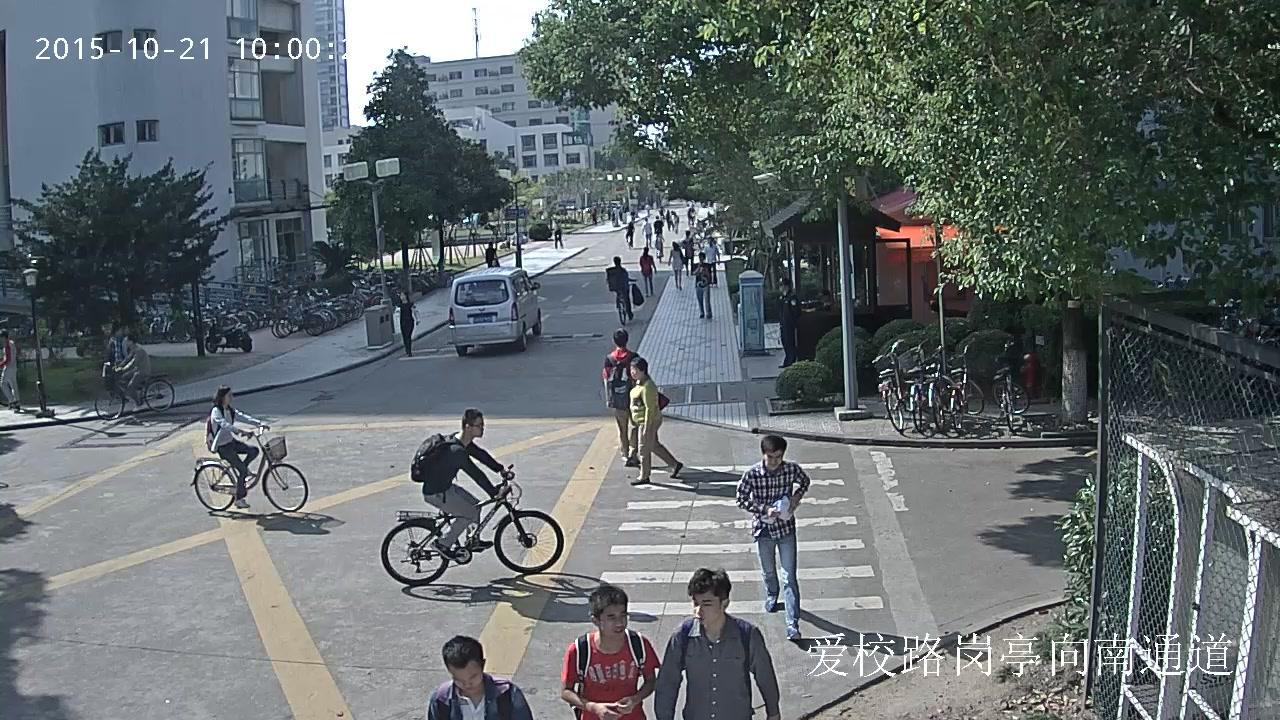face: (450, 659, 481, 692), (600, 604, 627, 638), (693, 592, 718, 625), (764, 449, 781, 469), (474, 416, 483, 435), (630, 363, 640, 378), (223, 390, 232, 404), (400, 292, 406, 300), (778, 283, 783, 291), (125, 325, 129, 333), (125, 336, 129, 344), (118, 325, 121, 333), (699, 255, 703, 260), (707, 239, 711, 243), (492, 260, 495, 265), (2, 336, 4, 343)
